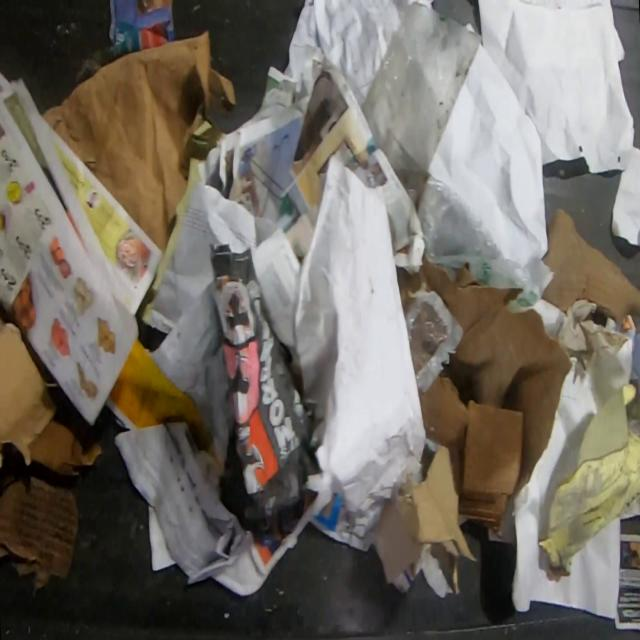cardboard: (396, 255, 574, 532), (40, 28, 238, 255), (372, 444, 478, 601), (542, 205, 640, 333), (22, 335, 103, 477), (0, 471, 80, 599), (0, 319, 58, 469), (193, 118, 222, 162)
soft_plastic: (359, 0, 482, 212), (416, 174, 554, 311), (404, 288, 464, 394)
